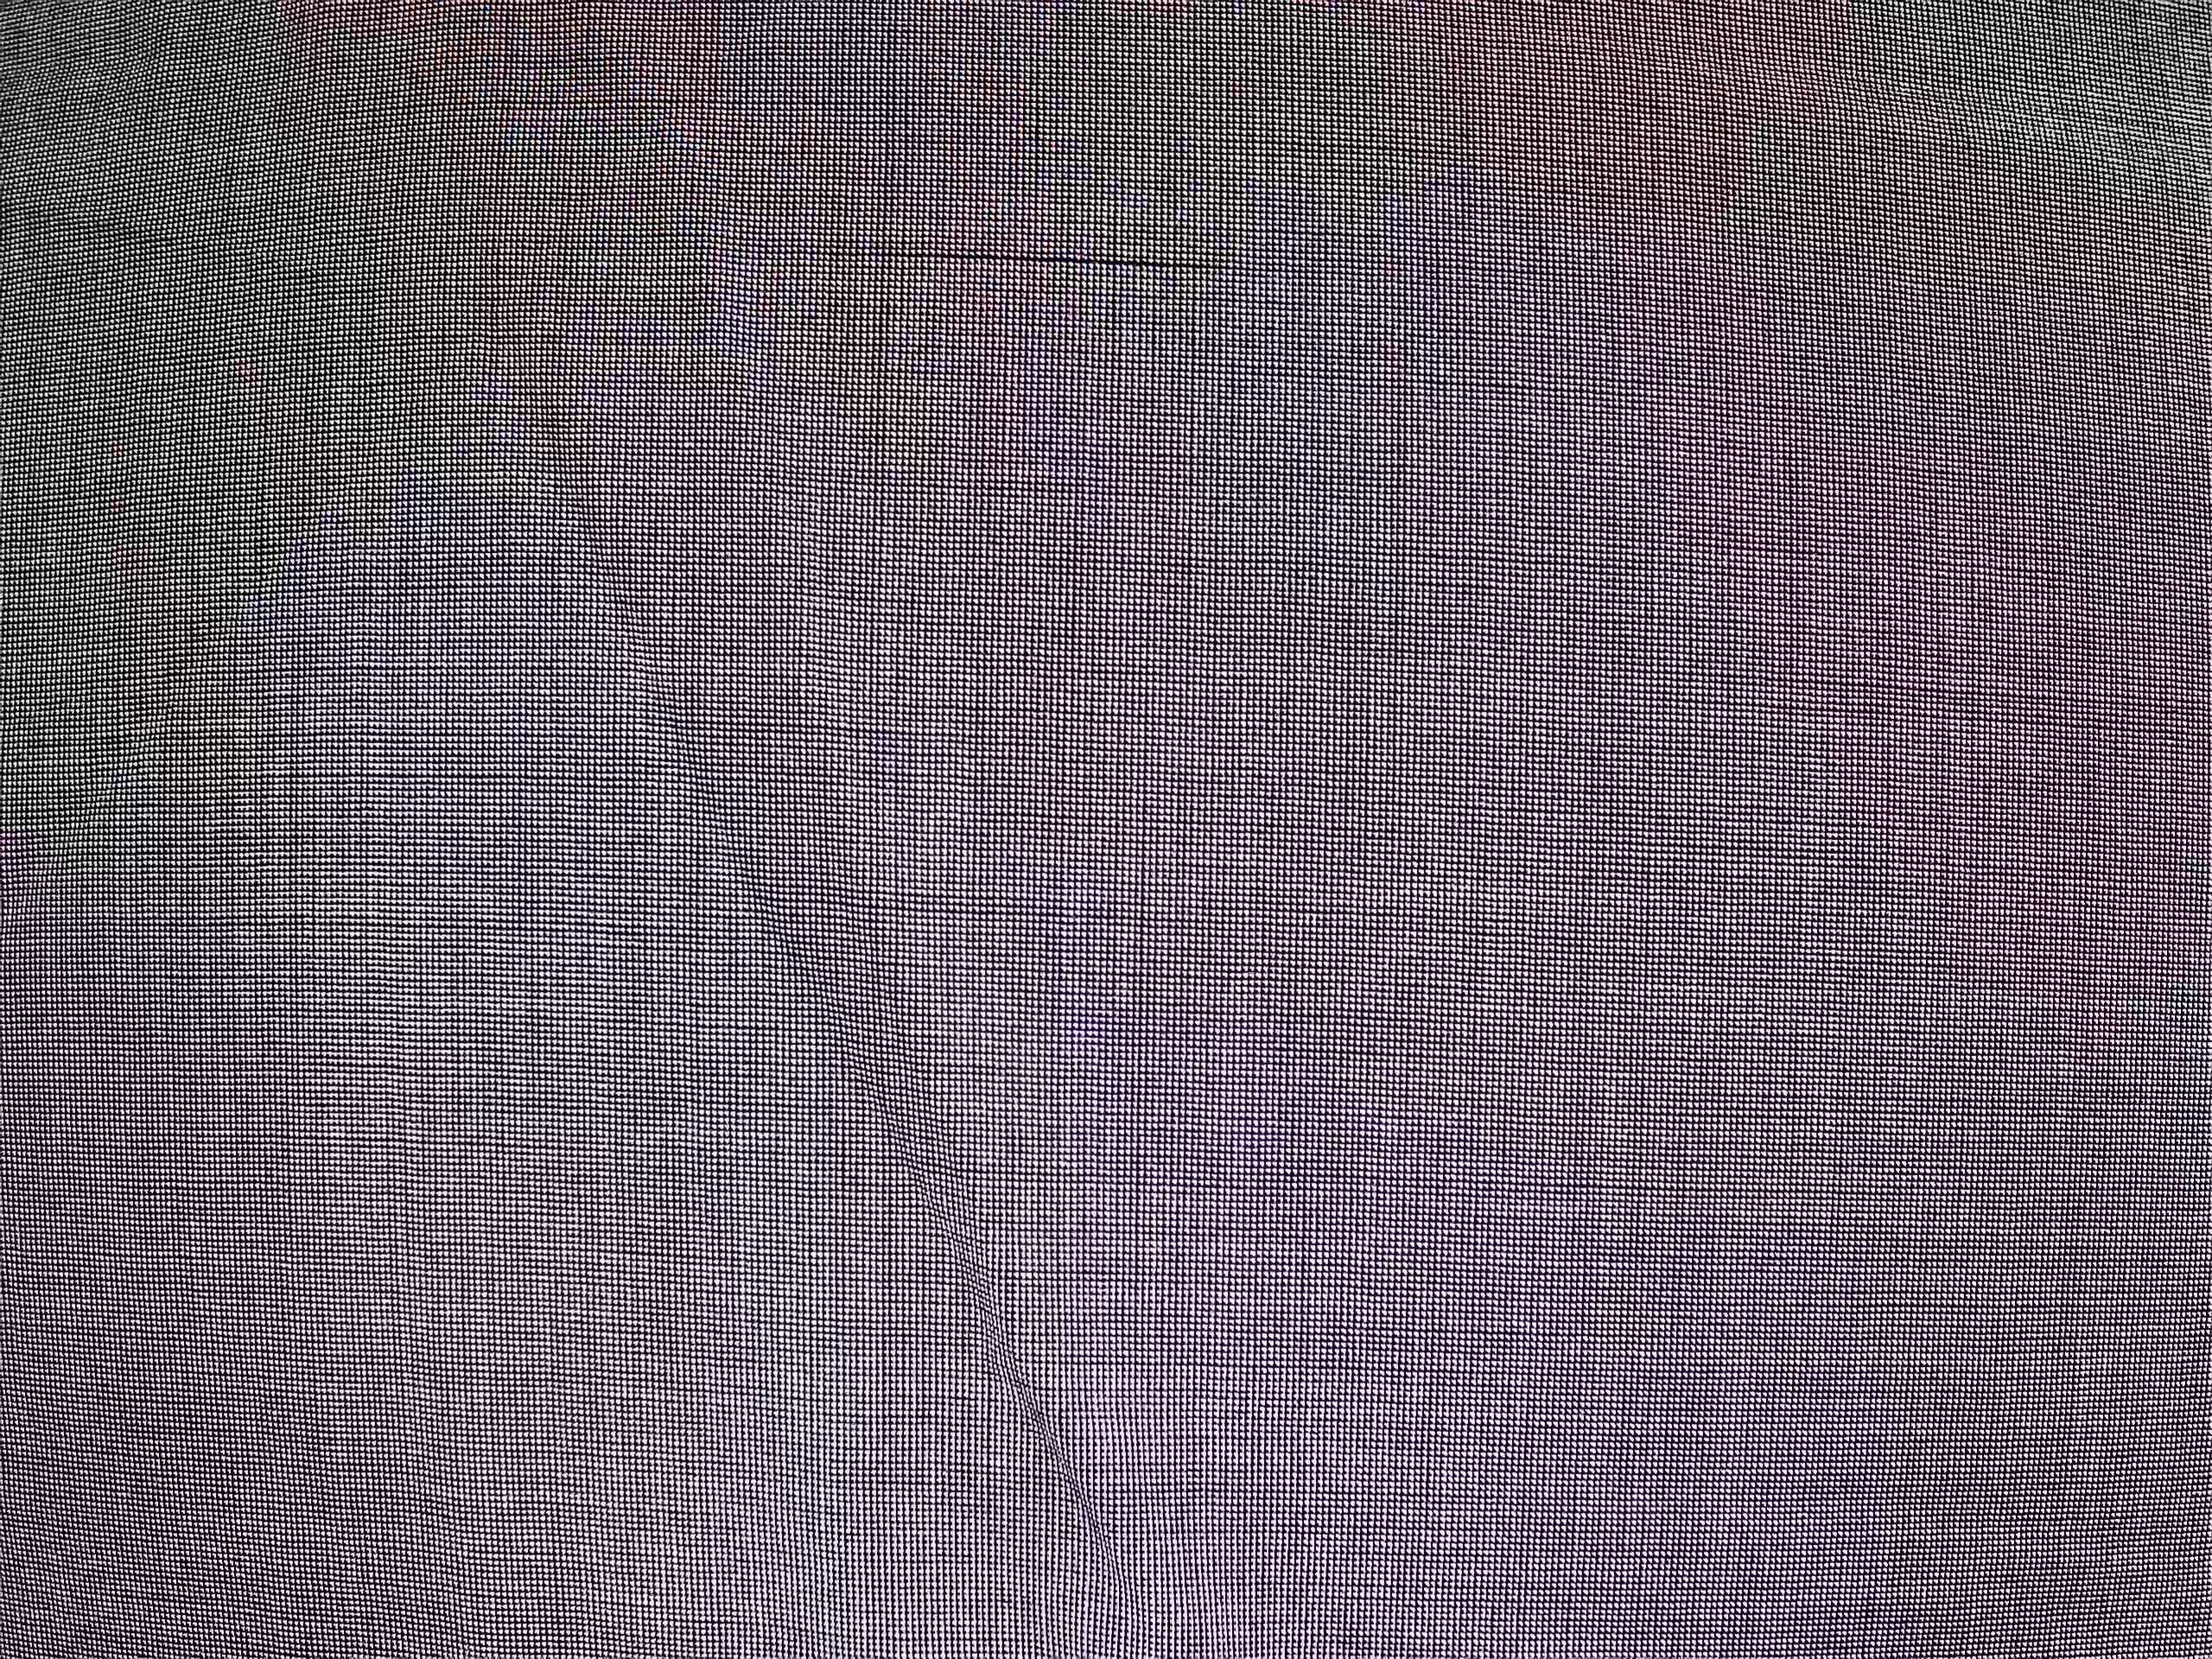others: (860, 239, 1230, 281)
